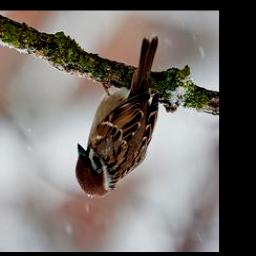Sparrow: (74, 37, 162, 199)
